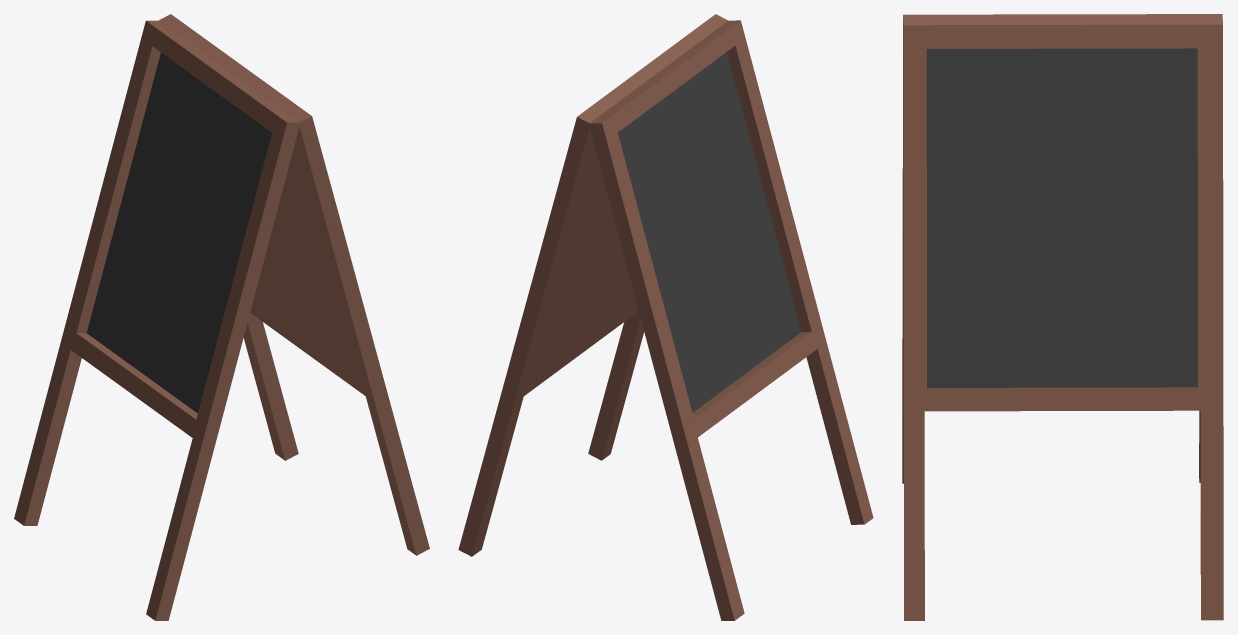
The model's file is Barrier 1.8.fbx.
The picture shows the model from 3 angles, left to right: view 1: azimuth 30°, elevation 25°; view 2: azimuth 150°, elevation 25°; view 3: azimuth 270°, elevation 25°; orthographic projection. The views are drawn at different scales.
Parts seen in each view (by area): view 1: Barrier_8.001; view 2: Barrier_8.001; view 3: Barrier_8.001.
Part boxes in pixels (x1=…): Barrier_8.001: x1=14, y1=14, x2=429, y2=620; Barrier_8.001: x1=458, y1=14, x2=873, y2=620; Barrier_8.001: x1=902, y1=14, x2=1223, y2=620.
Bounding box in the file's own units: 83.92 × 136 × 73.96.
